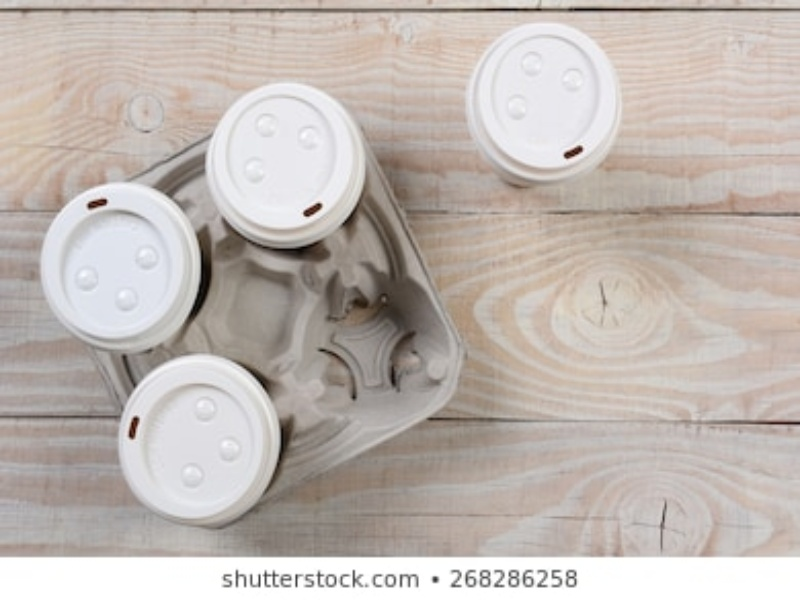coffee-lid: (115, 352, 282, 529), (203, 80, 370, 248), (41, 181, 202, 354), (463, 21, 623, 183)
